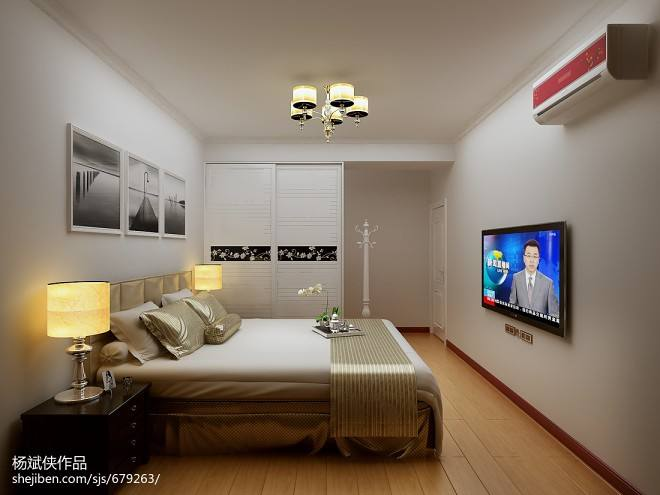床: (110, 305, 443, 462)
枕头: (105, 294, 241, 359)
灯: (43, 279, 112, 412), (289, 71, 368, 142), (190, 264, 224, 296)
